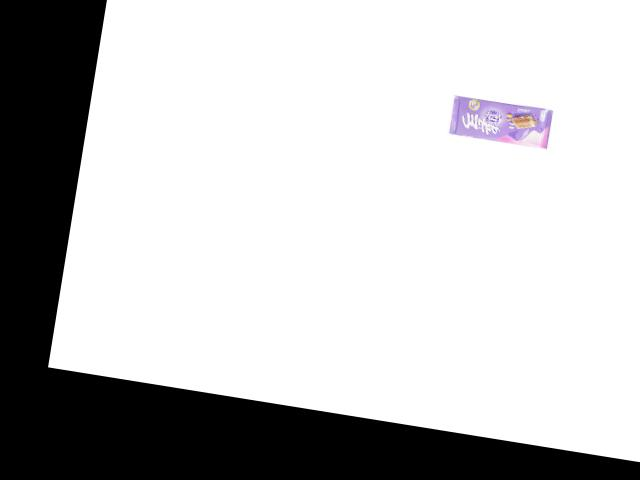chocolate: (448, 93, 553, 149)
